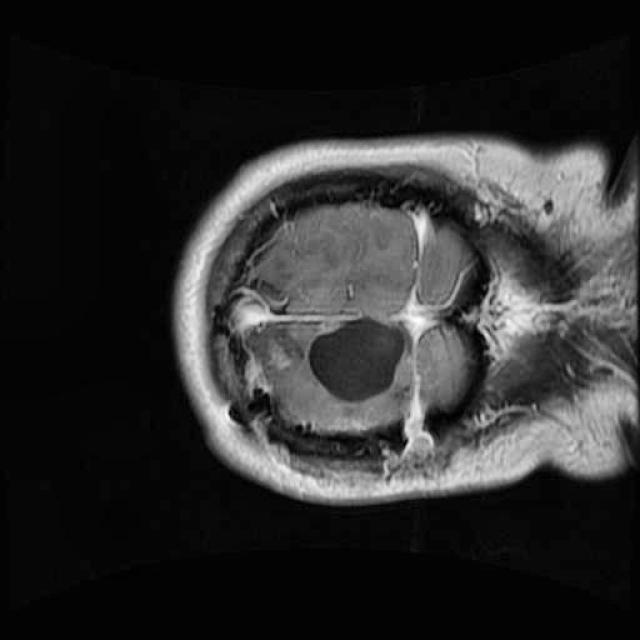Non-Tumor: (294, 300, 431, 420)
